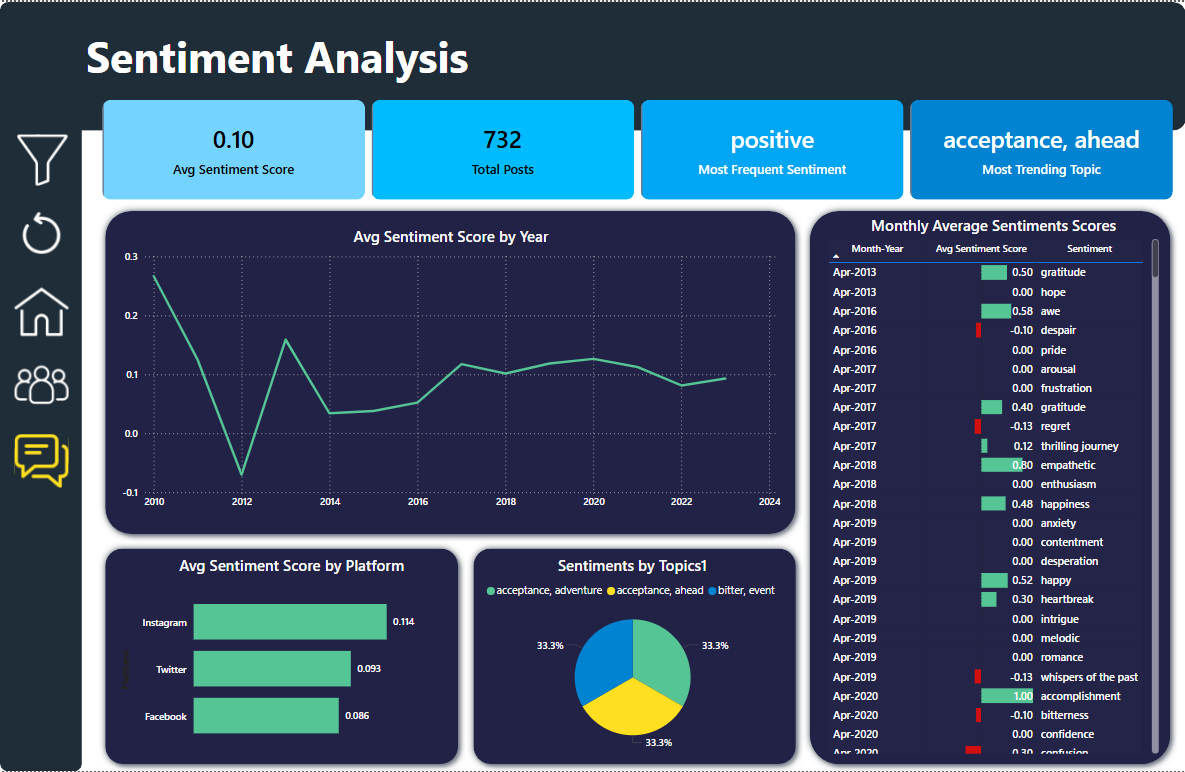

The dashboard page shown, as its layout file describes it:
{"tool":"powerbi","page":{"name":"Sentiment","canvas":[1480,960],"ordinal":2},"visuals":[{"type":"shape","box":[1001.4,251.8,468,708.3],"z":0},{"type":"actionButton","box":[8.5,348.5,86.8,75.4],"z":0,"group":"g1"},{"type":"shape","box":[0,0,102.2,960.1],"z":1000},{"type":"actionButton","box":[8.5,439.5,86.8,75.4],"z":1000,"group":"g1"},{"type":"shape","box":[0,0,1480,160.5],"z":2000},{"type":"actionButton","box":[8.5,534.8,86.8,75.4],"z":2000,"group":"g1"},{"type":"cardVisual","fields":{"Data":["DAX calculations.Avg Sentiment Score","DAX calculations.Total Posts","DAX calculations.Most Frequent Sentiment","DAX calculations.Most Trending Topic"]},"box":[122.3,116.6,1347,135.1],"z":3000},{"type":"tableEx","title":"Monthly Average Sentiments Scores","fields":{"Values":["Dates.Month-Year","DAX calculations.Avg Sentiment Score","Posts.Sentiment"]},"box":[1028.4,266,422.4,677.1],"z":4000},{"type":"textbox","box":[103,25.8,519.7,90.9],"z":5000},{"type":"shape","box":[122.3,251.8,879,421],"z":6000},{"type":"lineChart","fields":{"Category":["Dates.Date Hierarchy.Year","Dates.Date Hierarchy.Month-Year","Dates.Date Hierarchy.Start of Month"],"Y":["DAX calculations.Avg Sentiment Score"]},"box":[146.5,278.8,832.1,362.7],"z":7000},{"type":"shape","box":[123,673.5,458.3,287],"z":8000},{"type":"clusteredBarChart","fields":{"Category":["Posts.Platform"],"Y":["DAX calculations.Avg Sentiment Score"]},"box":[146.4,689.6,434.8,253.3],"z":9000},{"type":"shape","box":[581.2,673.5,420.2,287],"z":10000},{"type":"pieChart","title":"Sentiments by Topics1","fields":{"Y":["DAX calculations.Total Polarity"],"Category":["Topic Dim.ShortLabel"]},"box":[600.3,689.6,377.7,251.8],"z":11000},{"type":"group","id":"g1","title":"Group 1","box":[8.5,348.5,86.8,261.7],"z":12000},{"type":"actionButton","box":[2.8,160.7,101,72.5],"z":12500},{"type":"actionButton","box":[1.4,251.8,101,72],"z":12750}]}

Visuals, with their boxes on the page's 1480x960 design canvas (x1, y1, x2, y2). These are canvas units, not pixel positions in the 1185x772 screenshot, which may show the page scaled, cropped or inside an application window:
shape: select_region(1001, 252, 1469, 960)
actionButton: select_region(8, 348, 95, 424)
shape: select_region(0, 0, 102, 960)
actionButton: select_region(8, 440, 95, 515)
shape: select_region(0, 0, 1480, 160)
actionButton: select_region(8, 535, 95, 610)
cardVisual - DAX calculations.Avg Sentiment Score x DAX calculations.Total Posts: select_region(122, 117, 1469, 252)
"Monthly Average Sentiments Scores" tableEx: select_region(1028, 266, 1451, 943)
textbox: select_region(103, 26, 623, 117)
shape: select_region(122, 252, 1001, 673)
lineChart - Dates.Date Hierarchy.Year x Dates.Date Hierarchy.Month-Year: select_region(146, 279, 979, 642)
shape: select_region(123, 674, 581, 960)
clusteredBarChart - Posts.Platform x DAX calculations.Avg Sentiment Score: select_region(146, 690, 581, 943)
shape: select_region(581, 674, 1001, 960)
"Sentiments by Topics1" pieChart: select_region(600, 690, 978, 941)
"Group 1" group: select_region(8, 348, 95, 610)
actionButton: select_region(3, 161, 104, 233)
actionButton: select_region(1, 252, 102, 324)
